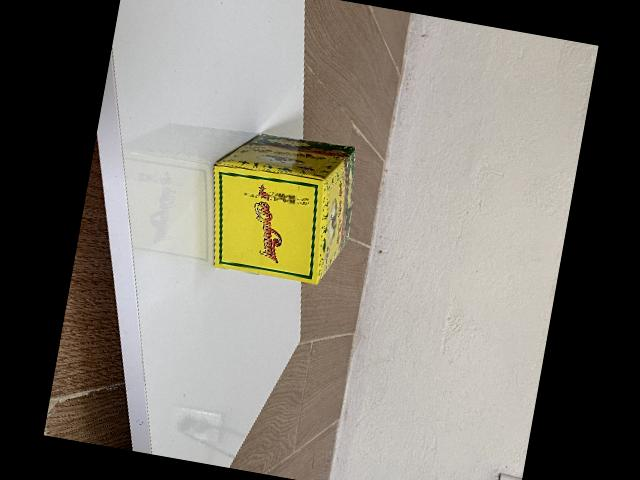luong_kho: (209, 131, 354, 285)
